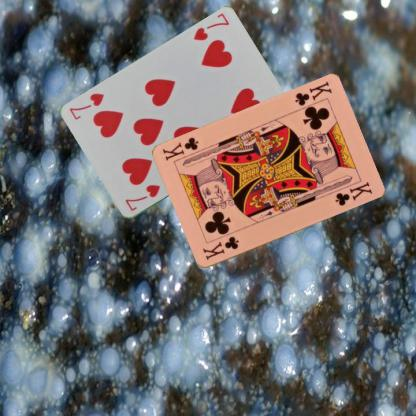7h: (191, 10, 231, 43), (123, 182, 161, 213)
Kc: (292, 79, 333, 108), (200, 233, 240, 262)
